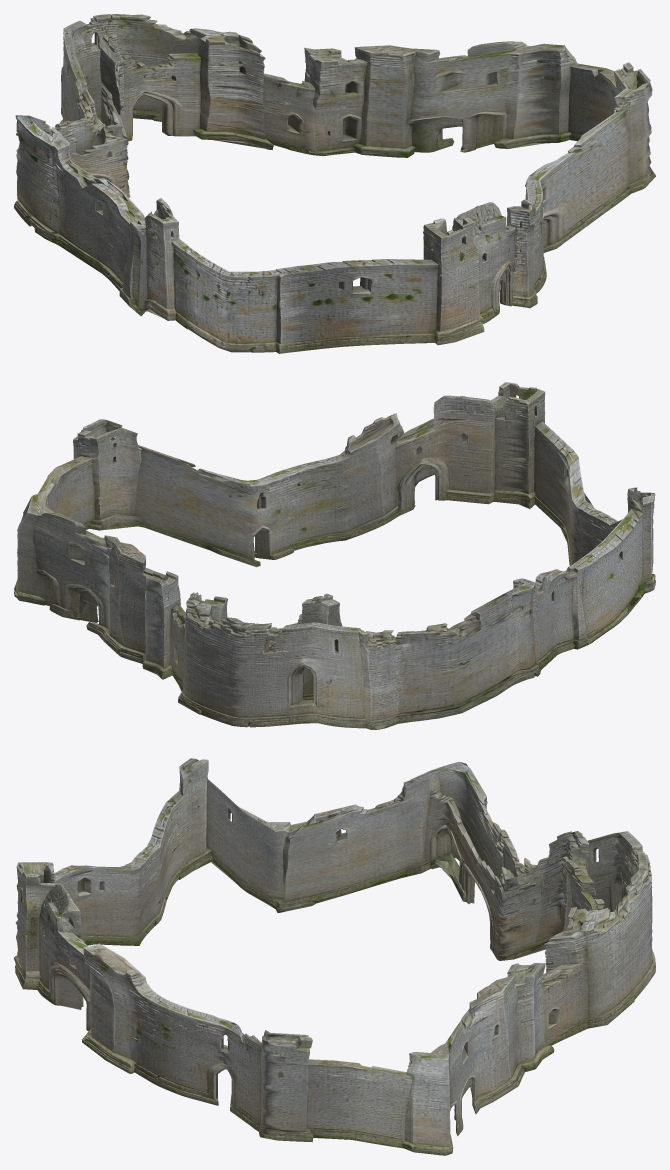
File: outer-bailey.glb
The picture shows the model from 3 angles, top to bottom: view 1: azimuth 30°, elevation 25°; view 2: azimuth 150°, elevation 25°; view 3: azimuth 270°, elevation 25°; orthographic projection. The views are drawn at different scales.
Parts seen in each view (by area): view 1: model; view 2: model; view 3: model.
Part boxes in pixels (bbox=[...]): model: bbox=[14, 14, 655, 353]; model: bbox=[14, 382, 655, 729]; model: bbox=[14, 758, 655, 1155].
Size of the model in its own units: 58.61 by 16.53 by 59.92.
1 material, 1 textured.
